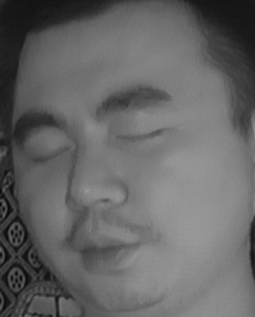blink: (110, 118, 175, 154), (26, 135, 73, 171)
mouth: (64, 215, 149, 278)
